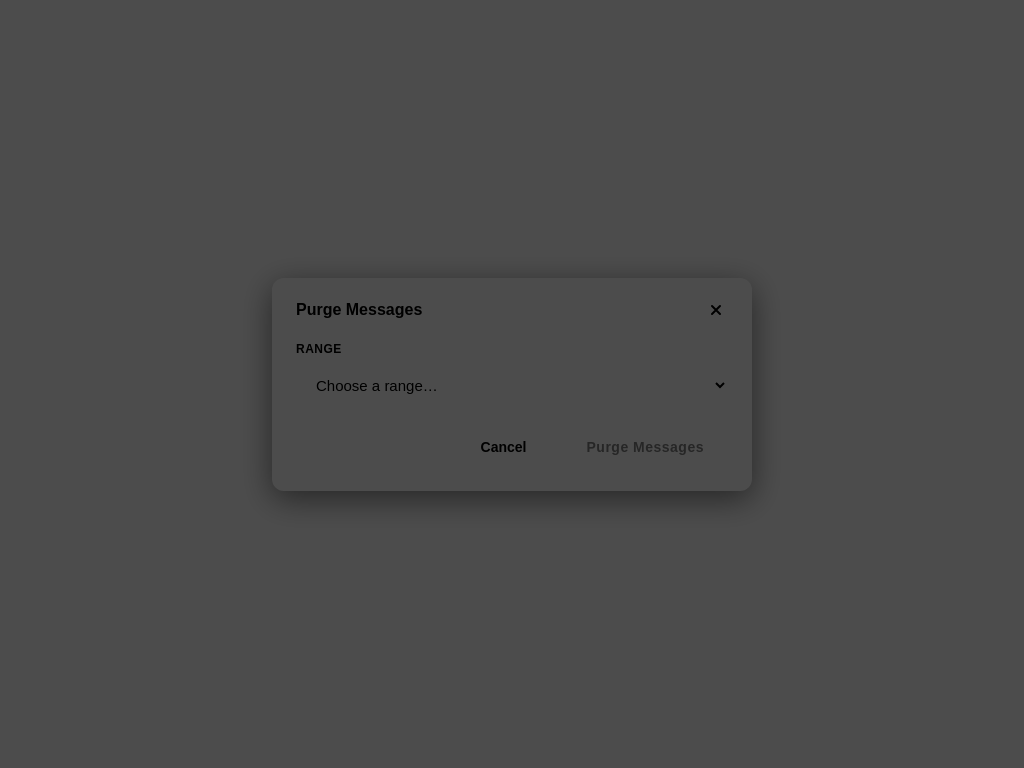
Test case: ManageOwn-only self-scope copy › narrows the channel body to the actors own messages
The image size is (1024, 768).
Select "Last 7 days" in the dropdown labelled "Range" at (512, 385), box [296,364,728,406]
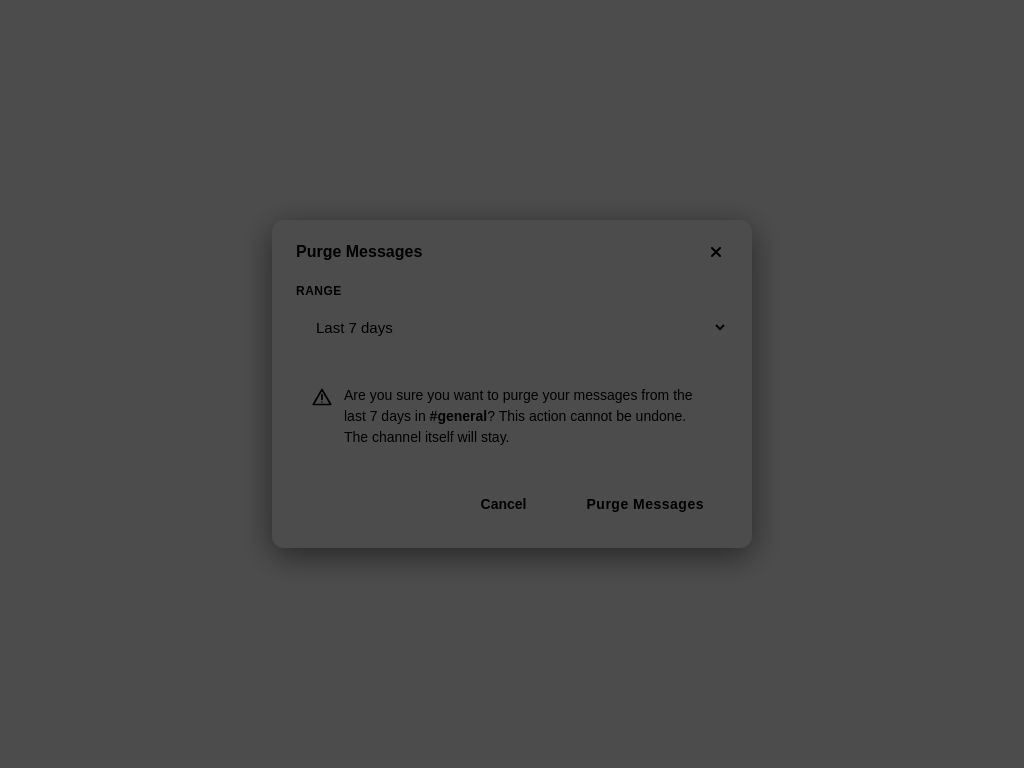
Check: the text "purge your messages from the last 7 days" is shown, box [344,387,693,424]
